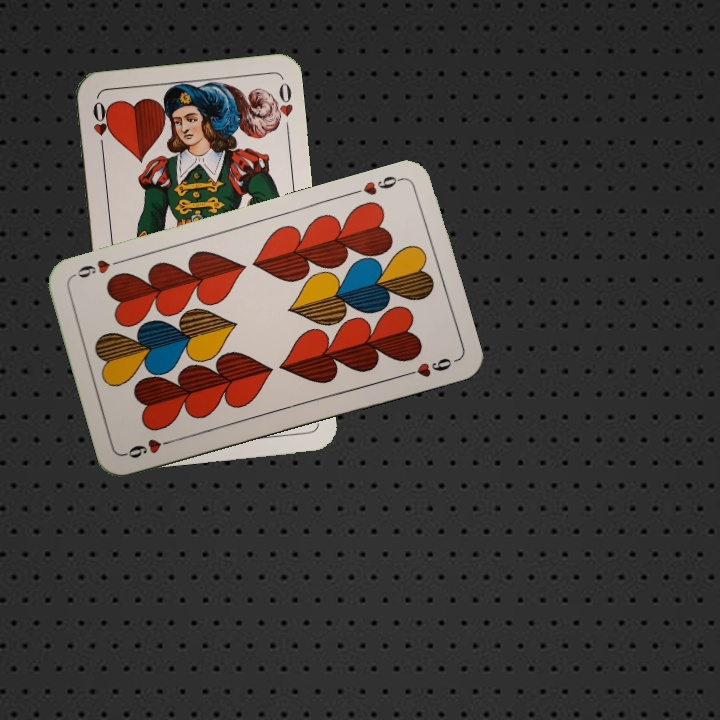H9: (121, 435, 179, 461), (359, 172, 406, 198)
HO: (89, 97, 112, 155)
